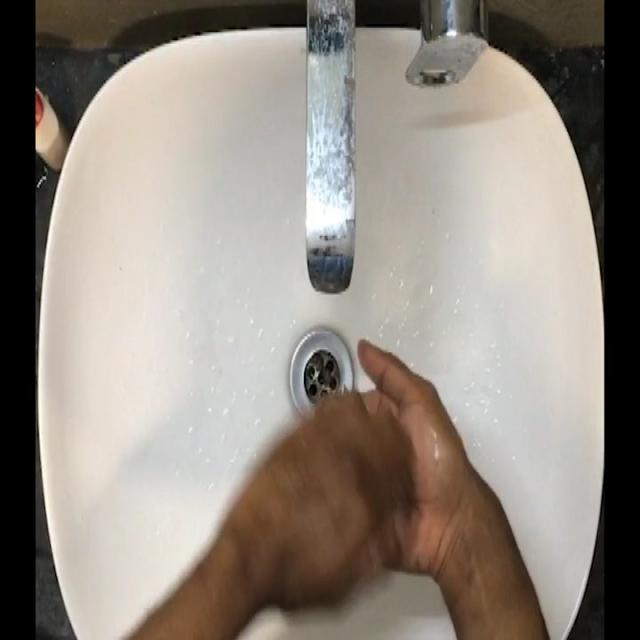step_4: (243, 330, 460, 605)
